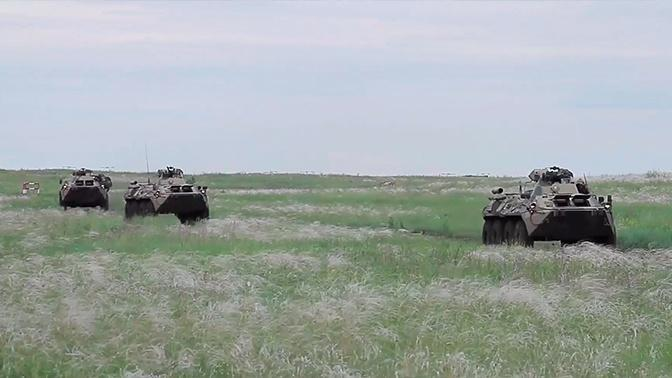tank: (482, 165, 617, 249), (123, 165, 210, 224), (59, 167, 112, 211)
